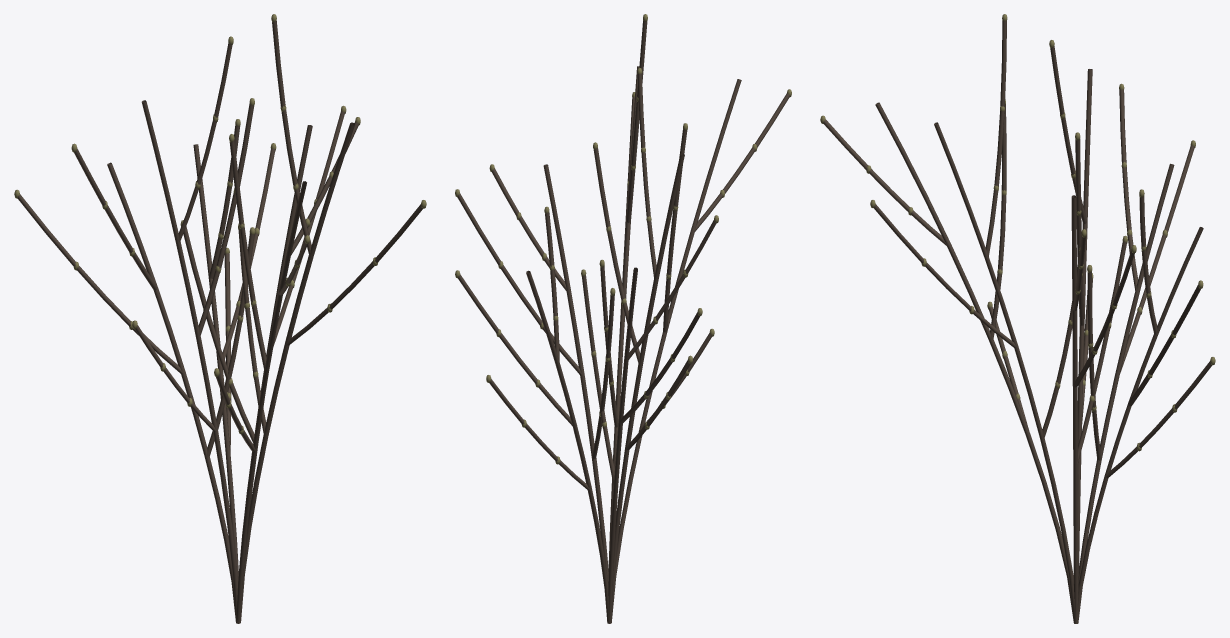
Rendered from twig-1.glb.
The picture shows the model from 3 angles, left to right: view 1: azimuth 30°, elevation 25°; view 2: azimuth 150°, elevation 25°; view 3: azimuth 270°, elevation 25°; orthographic projection. The views are drawn at different scales.
Visible parts, largest first — view 1: twig-stems, twig-leaves; view 2: twig-stems, twig-leaves; view 3: twig-stems, twig-leaves.
Part boxes in pixels (x1,y1,x2,y2): twig-stems: (17, 20, 422, 623); twig-leaves: (14, 14, 426, 434); twig-stems: (457, 20, 790, 623); twig-leaves: (455, 14, 791, 464); twig-stems: (823, 20, 1212, 623); twig-leaves: (820, 14, 1215, 451).
Bounding box in the file's own units: 0.3806 × 0.7695 × 0.4529.
